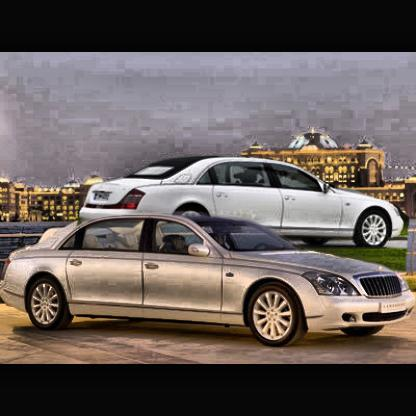Maybach Landaulet Convertible 2012: (2, 218, 416, 350)
